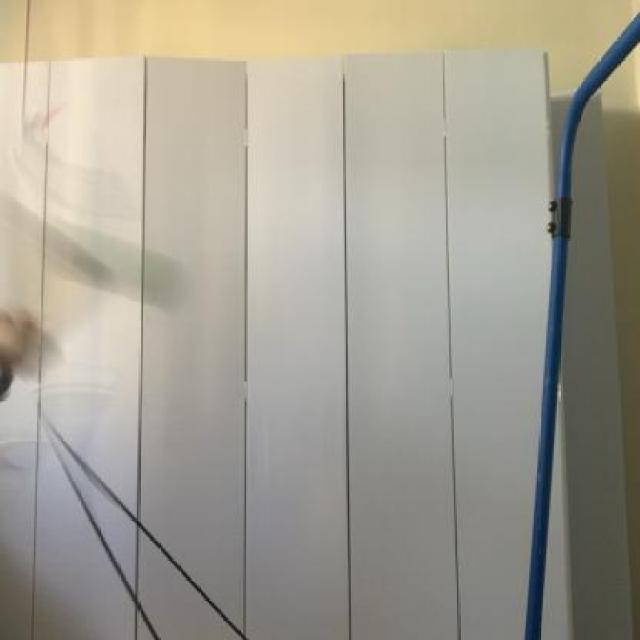baseball: (70, 222, 188, 316)
